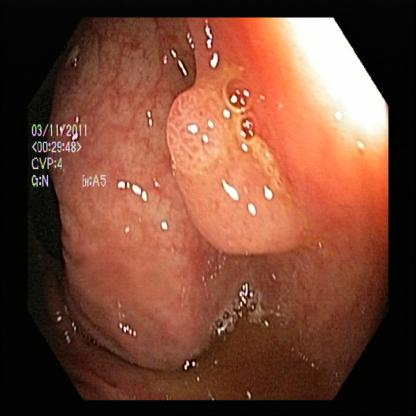Labels: (23, 118, 115, 198)
Polyps: (159, 77, 310, 258)
